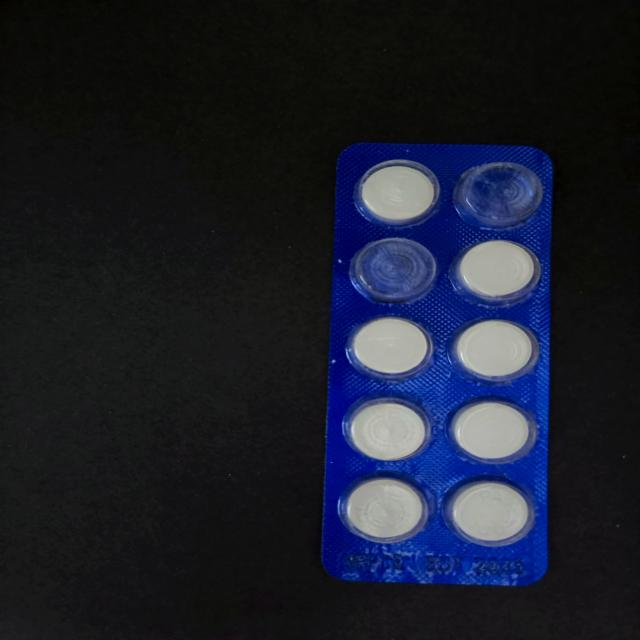defect: (346, 232, 440, 309), (452, 157, 545, 228)
